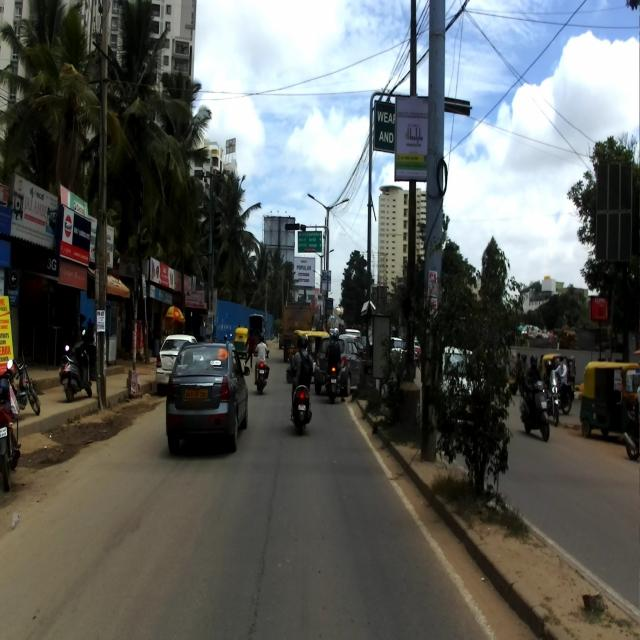Car_Mahindra: (165, 341, 250, 457)
autorickshaw: (578, 360, 640, 440)
motorcycle_TVS: (7, 347, 40, 416)
scooter: (58, 327, 92, 402), (518, 378, 550, 442), (292, 377, 312, 435)
